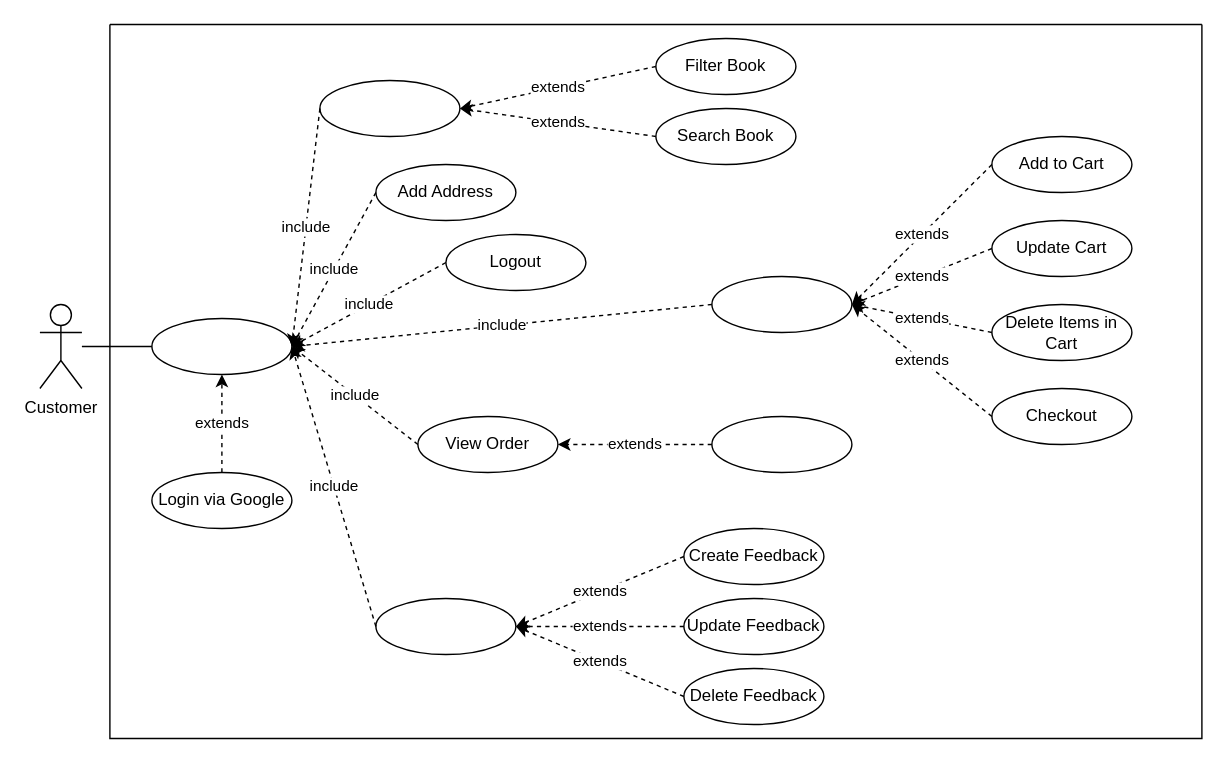
This 1226x763 diagram has some shape labels left out. The box of each missing label's shape, as (x1, y1, x2, y2) in pixels:
Cancel Order: (710, 415, 852, 472)
Login: (150, 317, 292, 374)
View Book: (318, 79, 460, 136)
View Cart: (710, 275, 852, 332)
View Feedback: (374, 597, 516, 654)
